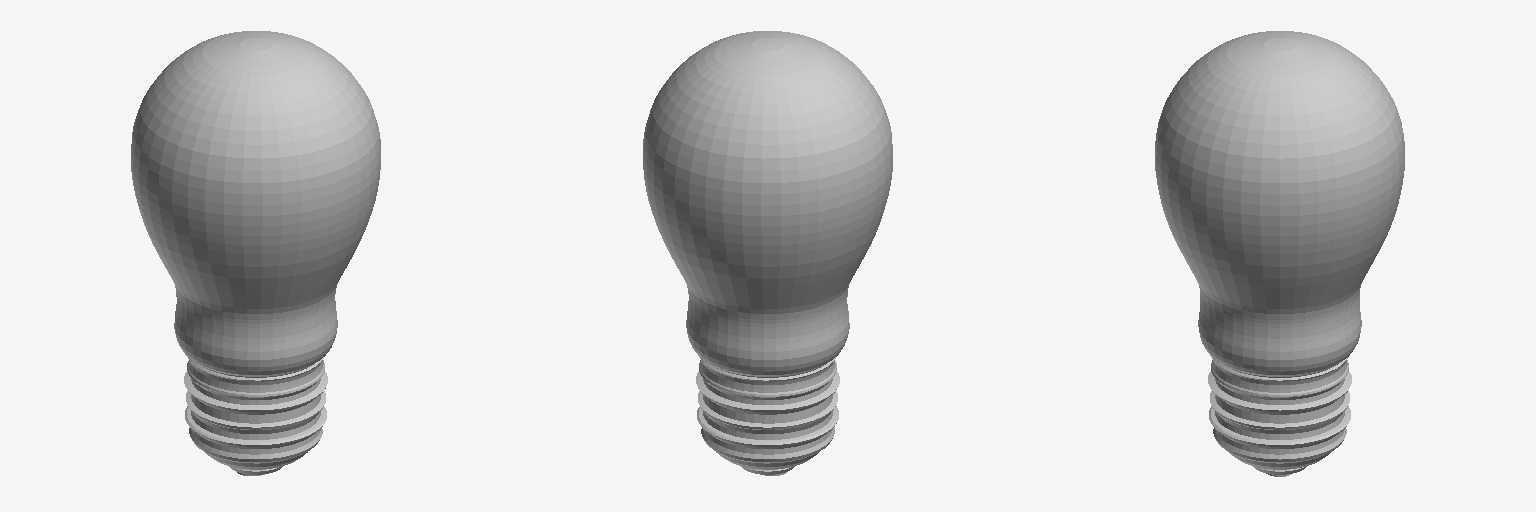
Rendered from lightbulb.obj.
The picture shows the model from 3 angles: view 1: azimuth 30°, elevation 25°; view 2: azimuth 150°, elevation 25°; view 3: azimuth 270°, elevation 25°; orthographic projection.
Parts seen in each view (by area): view 1: Lightbulb_Top, Lightbulb_bottom; view 2: Lightbulb_Top, Lightbulb_bottom; view 3: Lightbulb_Top, Lightbulb_bottom.
Boxes of the visible parts, <box> form: Lightbulb_Top: <box>131,31,380,376</box>; Lightbulb_bottom: <box>184,357,327,474</box>; Lightbulb_Top: <box>643,31,892,376</box>; Lightbulb_bottom: <box>696,357,839,474</box>; Lightbulb_Top: <box>1155,31,1404,376</box>; Lightbulb_bottom: <box>1208,358,1351,474</box>.
Bounding box in the file's own units: 4.67 × 8.74 × 4.67.